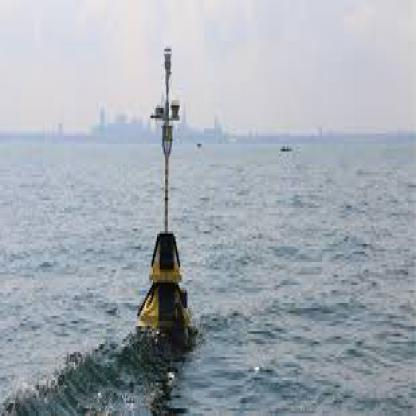buoy: (121, 30, 206, 364)
